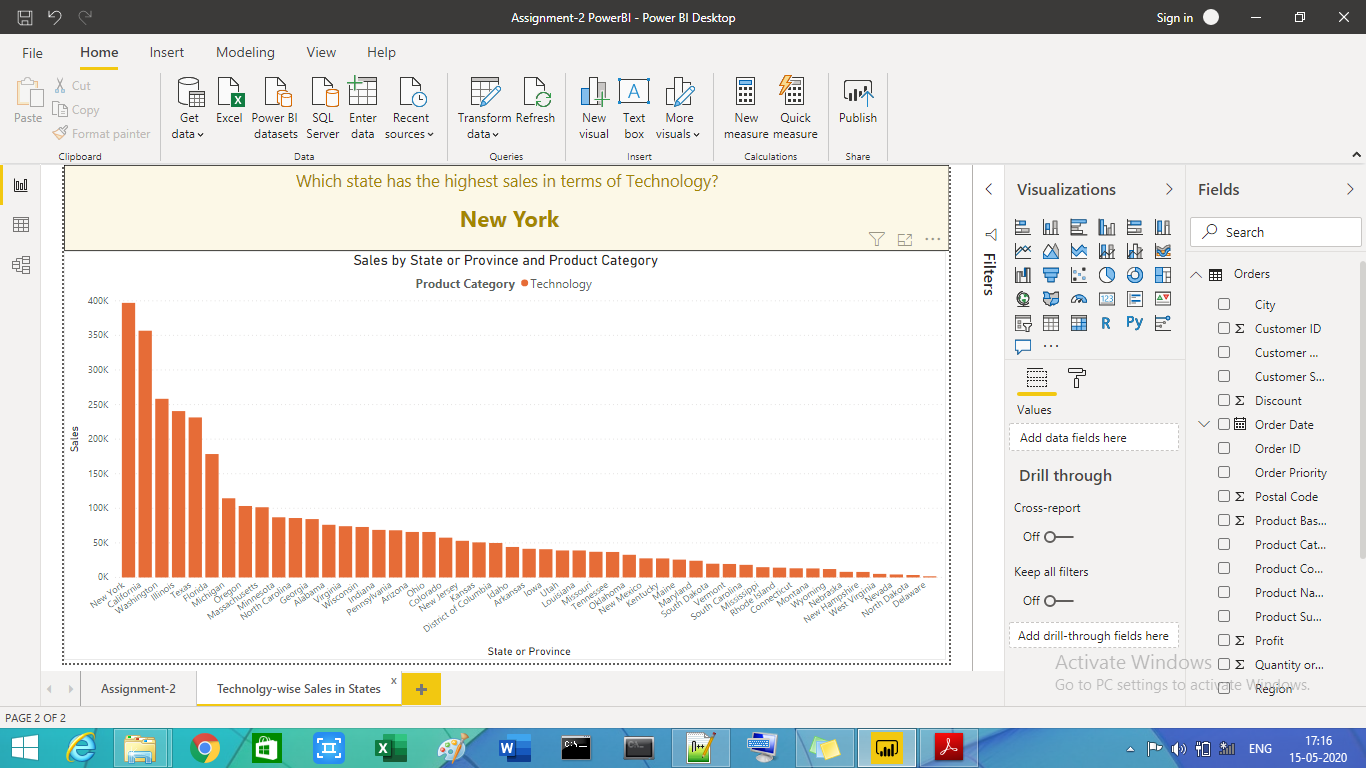

The page's visual inventory and layout, read from the dashboard file:
{"tool":"powerbi","page":{"name":"Technolgy-wise Sales in States","canvas":[1280,720],"ordinal":1},"visuals":[{"type":"lineClusteredColumnComboChart","fields":{"Y":["Sum(Orders.Sales)"],"Category":["Orders.State or Province"],"Series":["Orders.Product Category"]},"box":[0,124.3,1275.2,591.3],"z":2000},{"type":"textbox","box":[0,0,1279.5,124.3],"z":4000}]}

Visuals, with their boxes on the page's 1280x720 design canvas (x1, y1, x2, y2). These are canvas units, not pixel positions in the 1366x768 screenshot, which may show the page scaled, cropped or inside an application window:
lineClusteredColumnComboChart - Sum(Orders.Sales) x Orders.State or Province: rect(0, 124, 1275, 716)
textbox: rect(0, 0, 1280, 124)
